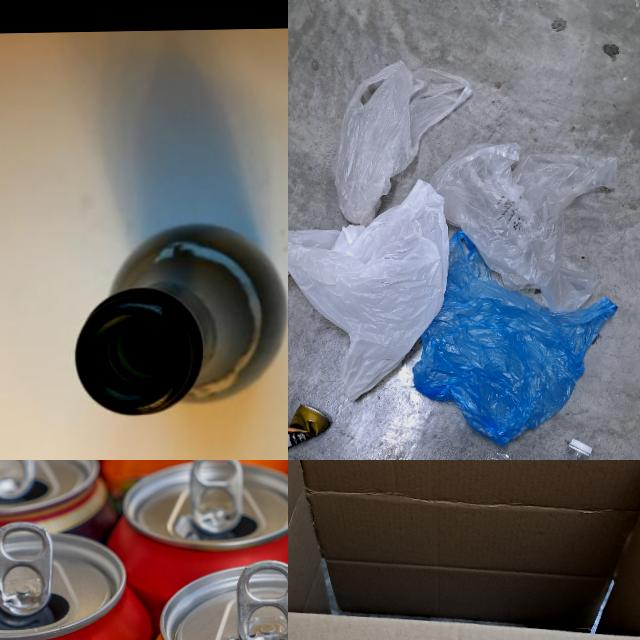aba de lata: (0, 520, 50, 619), (235, 552, 288, 640), (187, 460, 245, 532)
garrafa de vidro: (72, 284, 207, 412)
garrafa plástica: (479, 447, 586, 460)
lata: (107, 460, 288, 588), (0, 537, 140, 640), (140, 558, 288, 640), (0, 460, 111, 539), (288, 402, 330, 455), (0, 460, 38, 500)
papelão: (288, 460, 640, 640)
sacola plástica: (408, 226, 620, 450), (288, 178, 452, 402), (431, 139, 616, 313), (332, 58, 474, 224)
tampa plástica: (569, 438, 592, 456)
